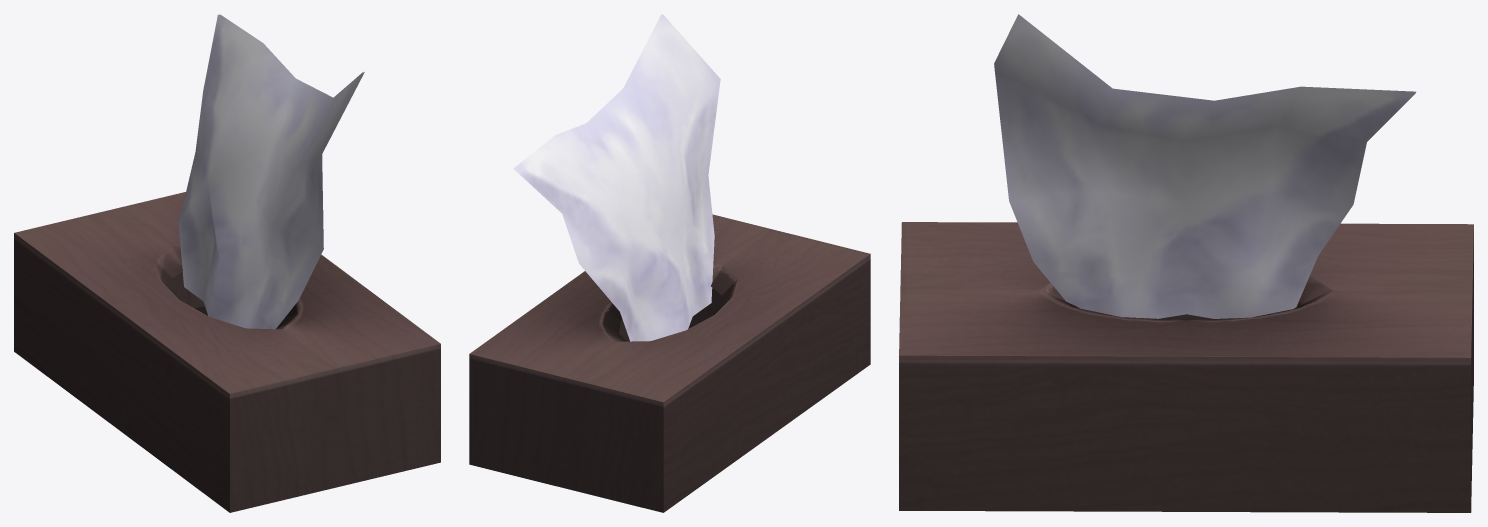
File: BianLiDian_01_zhichouhe_01.FBX
The picture shows the model from 3 angles, left to right: view 1: azimuth 30°, elevation 25°; view 2: azimuth 150°, elevation 25°; view 3: azimuth 270°, elevation 25°; orthographic projection. The views are drawn at different scales.
Visible parts, largest first — view 1: BianLiDian_01_zhichouhe_01; view 2: BianLiDian_01_zhichouhe_01; view 3: BianLiDian_01_zhichouhe_01.
Part boxes in pixels (bbox=[...]): BianLiDian_01_zhichouhe_01: bbox=[14, 14, 440, 512]; BianLiDian_01_zhichouhe_01: bbox=[469, 14, 870, 512]; BianLiDian_01_zhichouhe_01: bbox=[899, 14, 1473, 512].
Size of the model in its own units: 54.21 by 88.74 by 96.98.
